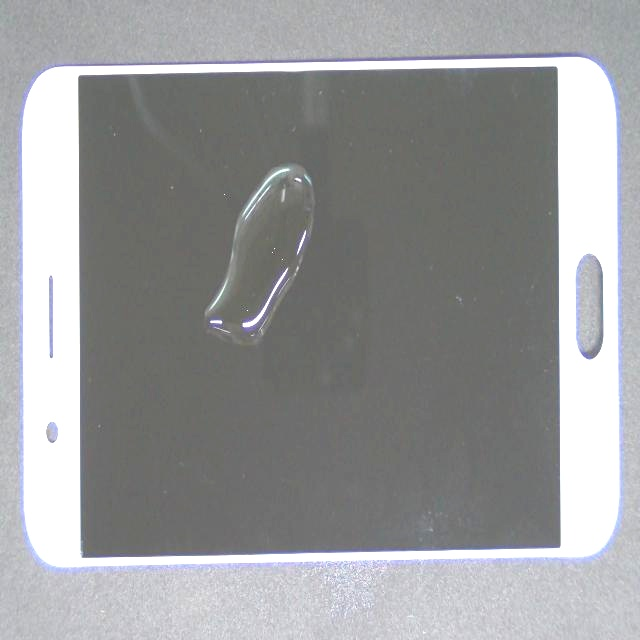oil: (127, 89, 332, 409)
